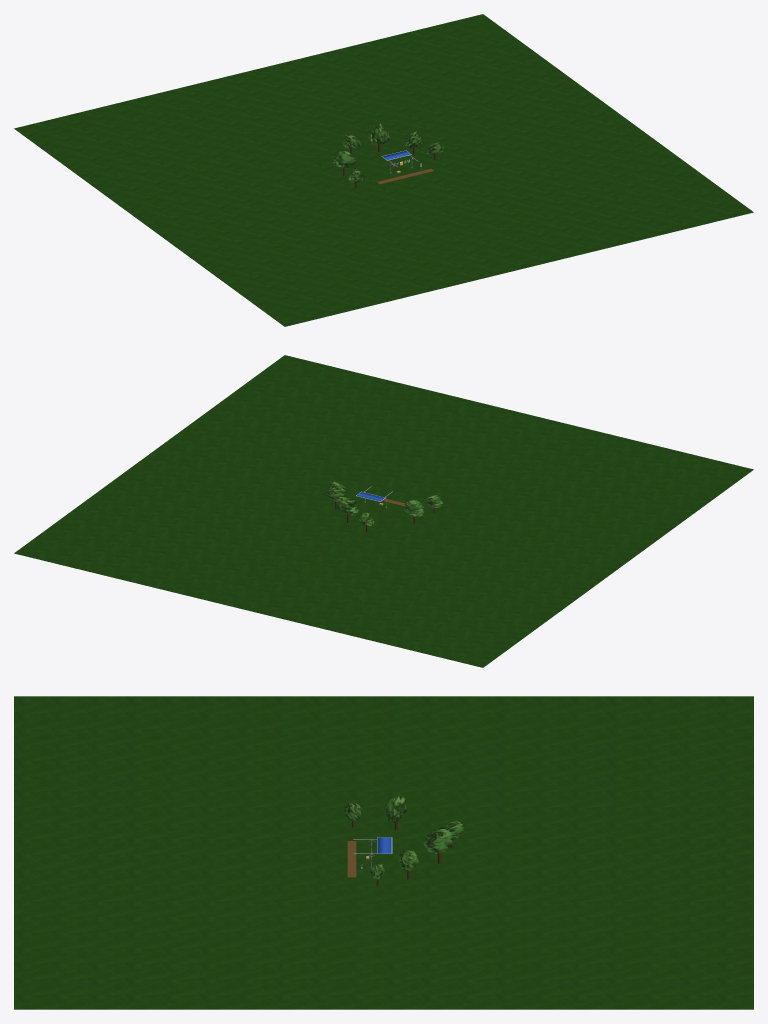
Rendered from rain-yard.glb.
The picture shows the model from 3 angles, top to bottom: view 1: azimuth 30°, elevation 25°; view 2: azimuth 150°, elevation 25°; view 3: azimuth 270°, elevation 25°; orthographic projection. The views are drawn at different scales.
Parts seen in each view (by area): view 1: Yard; view 2: Yard; view 3: Yard.
Boxes of the visible parts, <box> form: Yard: <box>14,14,753,326</box>; Yard: <box>14,355,753,667</box>; Yard: <box>14,696,753,1009</box>.
Size of the model in its own units: 120 by 6.28 by 120.
42 materials, 2 textured.
